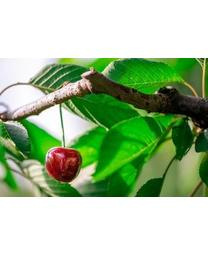cherry: (46, 147, 81, 183)
